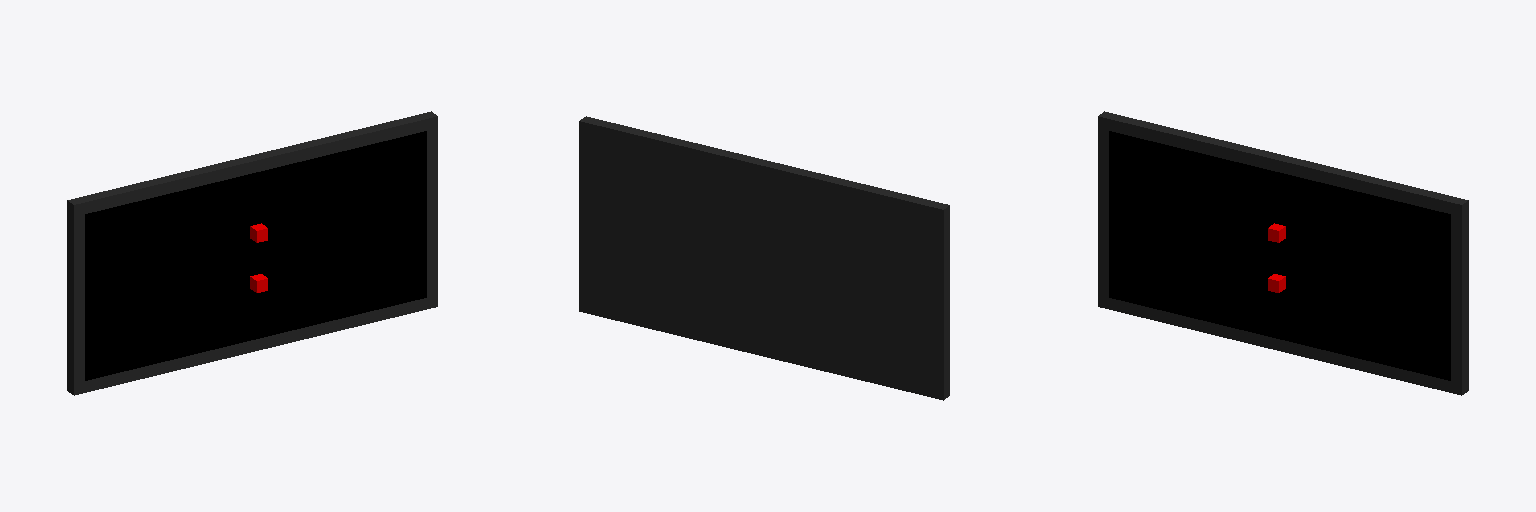
File: clock_base.obj
The picture shows the model from 3 angles: view 1: azimuth 30°, elevation 25°; view 2: azimuth 150°, elevation 25°; view 3: azimuth 330°, elevation 25°; orthographic projection.
Visible parts, largest first — view 1: back, colon; view 2: back; view 3: back, colon.
Part boxes in pixels (x1,y1,x2,y2): back: (67, 111, 437, 395); colon: (250, 223, 267, 292); back: (579, 116, 949, 400); back: (1098, 111, 1468, 395); colon: (1268, 223, 1285, 292).
Bounding box in the file's own units: 2 × 1 × 0.125.